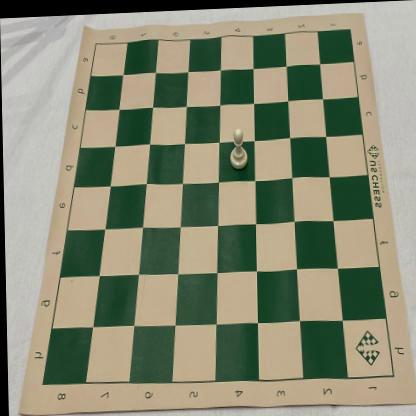white-pawn: (228, 124, 247, 170)
